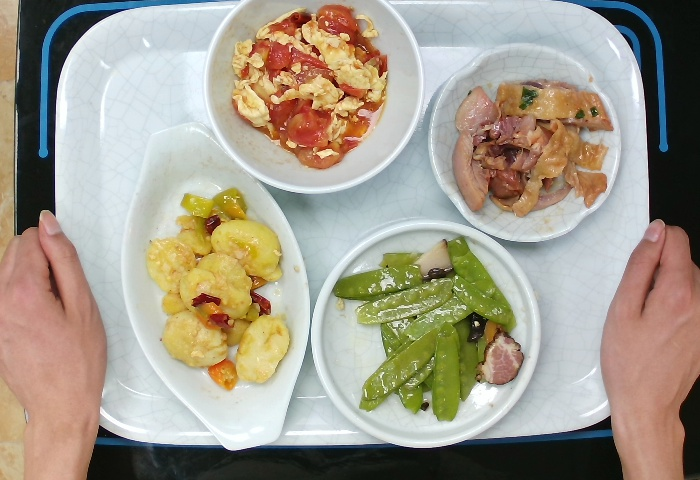JYsf-Ao_Yuan_Wan: (426, 40, 623, 244)
JYsf-Fan_Wan: (200, 1, 427, 196)
JYsf-Xiao_Yuan_Pan: (309, 216, 543, 450)
JYsf-Yu_Pan: (119, 119, 312, 453)
